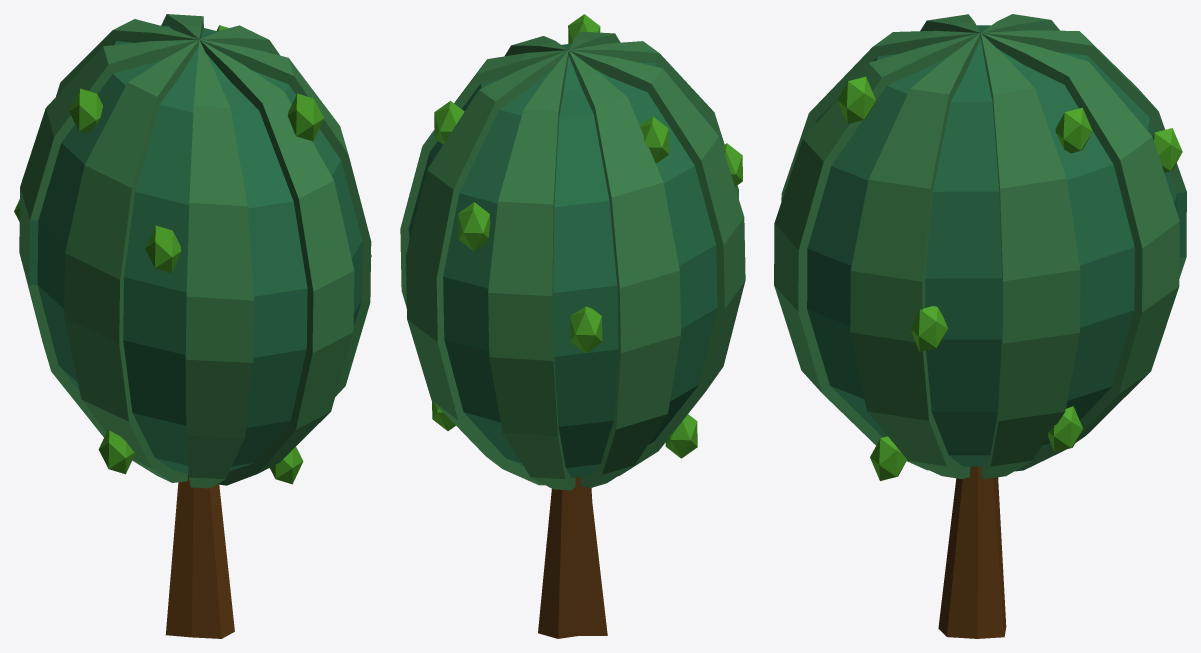
File: FirTreeSmall.glb
3 renders of one model, left to right at view 1: azimuth 30°, elevation 25°; view 2: azimuth 150°, elevation 25°; view 3: azimuth 270°, elevation 25°, orthographic. The views are drawn at different scales.
Parts seen in each view (by area): view 1: Sphere; view 2: Sphere; view 3: Sphere.
Part boxes in pixels (bbox=[...]): Sphere: bbox=[14, 14, 371, 638]; Sphere: bbox=[400, 14, 745, 638]; Sphere: bbox=[774, 14, 1186, 638].
Bounding box in the file's own units: 2.81 × 5.44 × 3.42.
